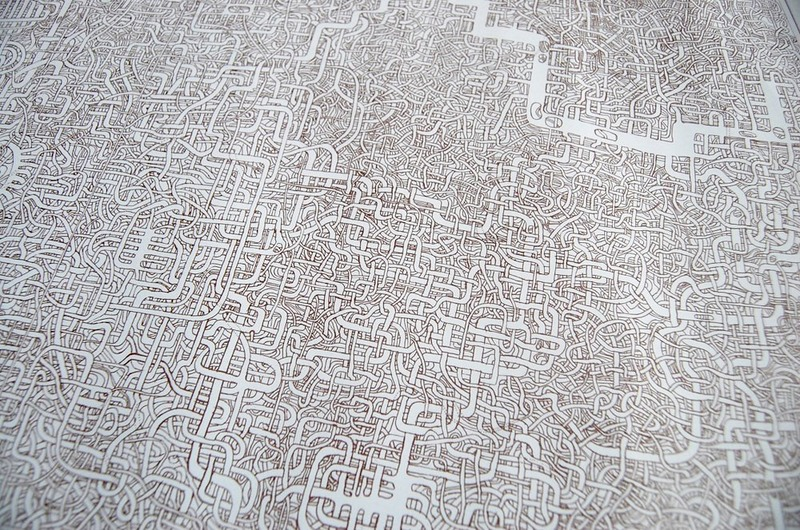maze: (1, 3, 799, 529)
